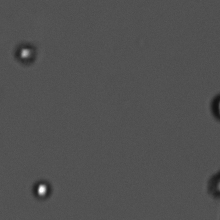Living Cell: (30, 176, 54, 201), (13, 42, 37, 65)
